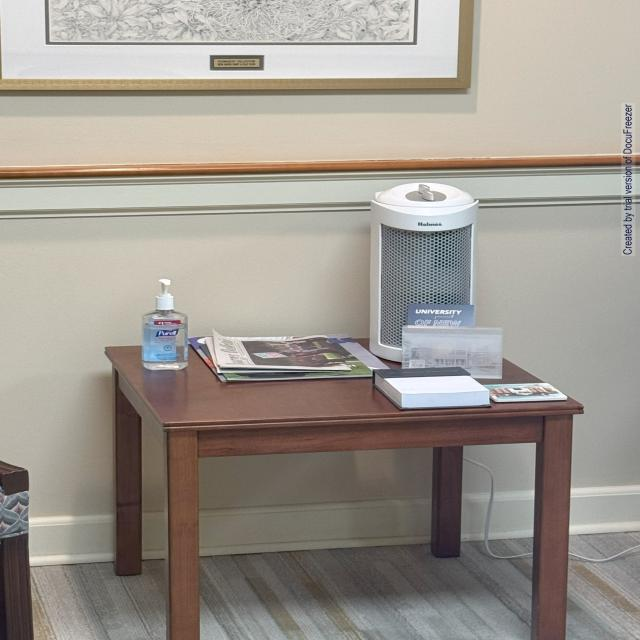Table: (102, 329, 600, 640)
